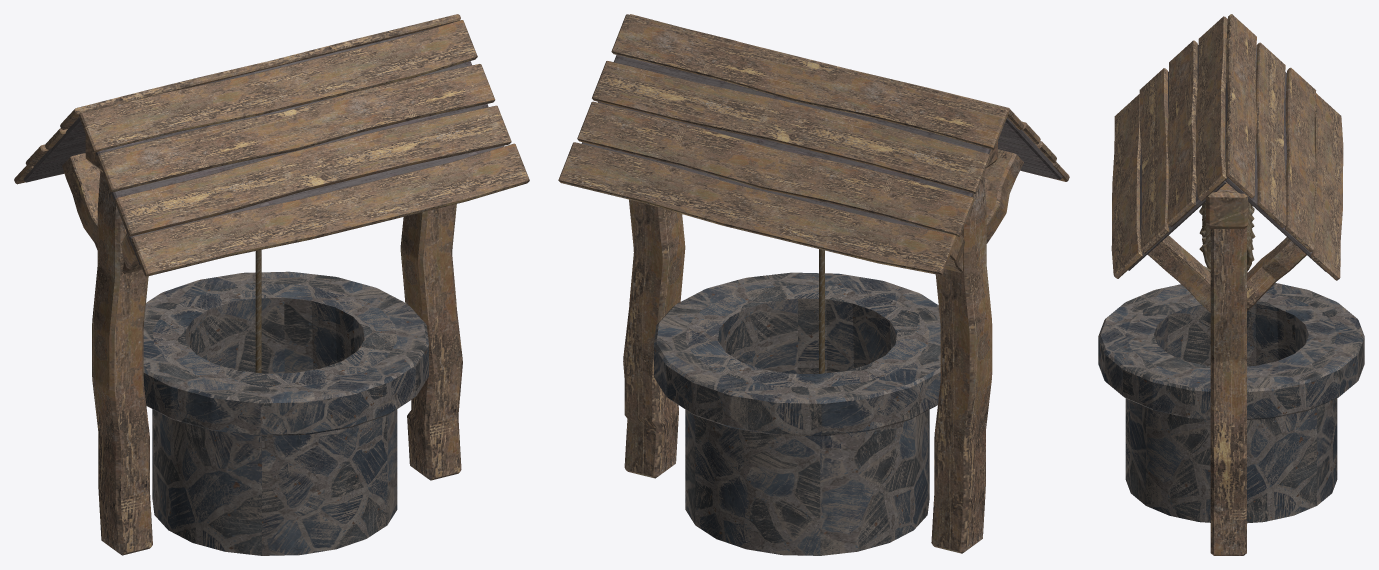
Rendered from well.fbx.
The picture shows the model from 3 angles, left to right: view 1: azimuth 30°, elevation 25°; view 2: azimuth 150°, elevation 25°; view 3: azimuth 270°, elevation 25°; orthographic projection. The views are drawn at different scales.
Visible parts, largest first — view 1: Well; view 2: Well; view 3: Well.
Boxes of the visible parts, x1,y1,x2,y2 form: Well: (14, 14, 529, 555); Well: (558, 14, 1069, 555); Well: (1098, 14, 1364, 555).
Bounding box in the file's own units: 1.43 × 1.59 × 0.9899.
